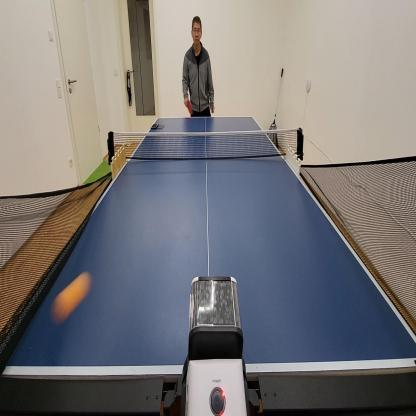Ball: (50, 269, 92, 327)
